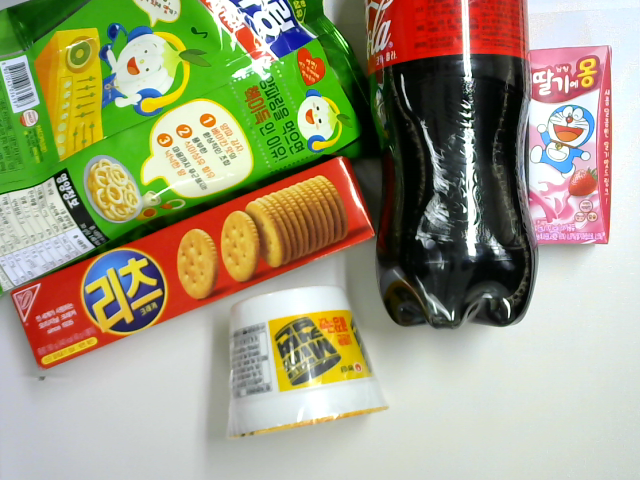Coca_Cola_1.5L: (359, 1, 548, 342)
Hejangmini: (221, 285, 405, 445)
Oninon_Ring: (1, 1, 386, 304)
Ritz_Cracker: (9, 149, 379, 379)
Strawberry_E_Mong: (510, 35, 617, 259)
